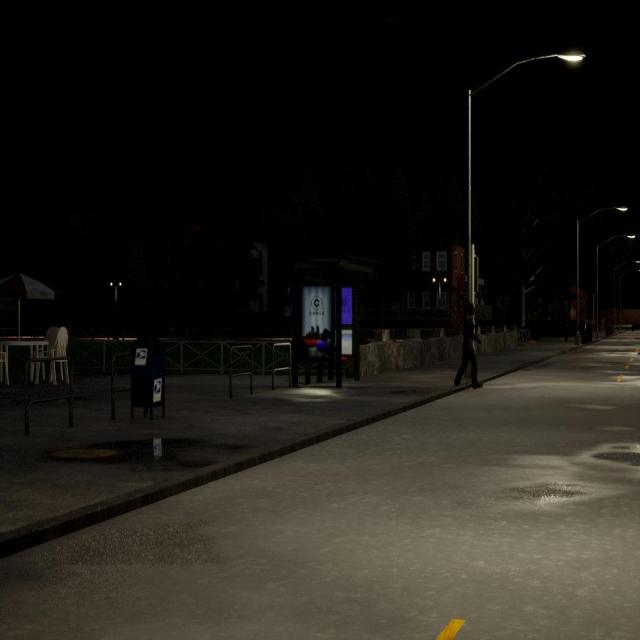Pedestrian: (454, 302, 482, 388)
Vehicle: (629, 315, 640, 333)
traffic_light: (469, 255, 482, 296)
